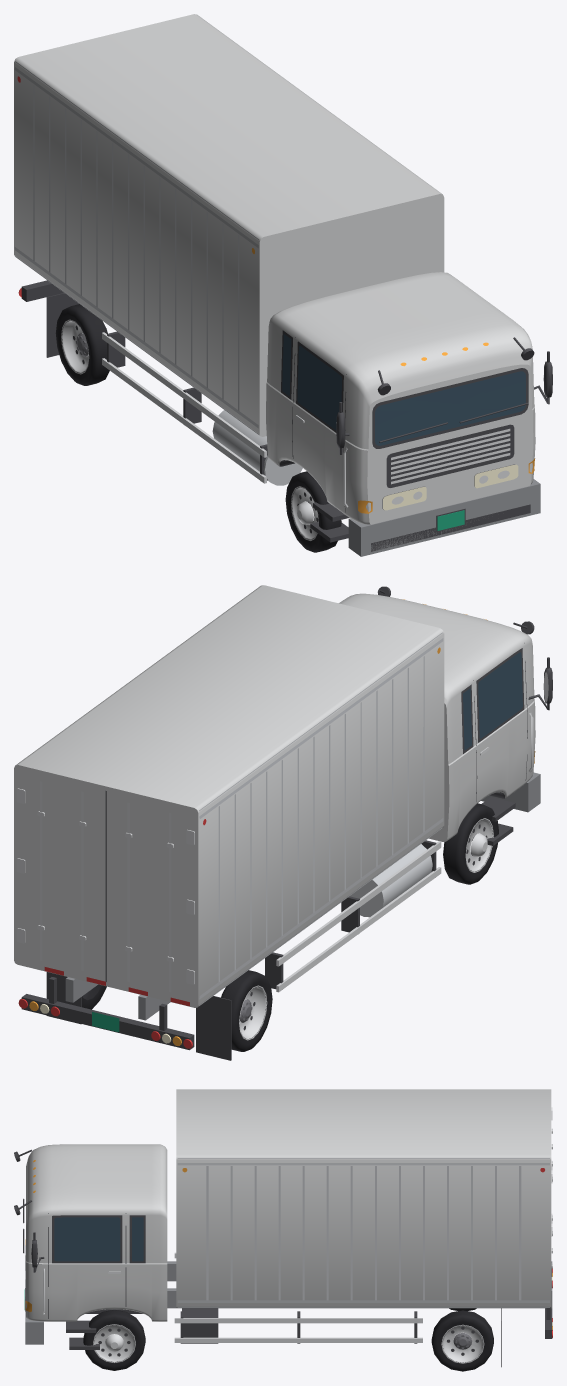
Rendered from 0_close.fbx.
The picture shows the model from 3 angles, top to bottom: view 1: azimuth 30°, elevation 25°; view 2: azimuth 150°, elevation 25°; view 3: azimuth 270°, elevation 25°; orthographic projection. The views are drawn at different scales.
Parts seen in each view (by area): view 1: 11_0_close; view 2: 11_0_close; view 3: 11_0_close.
Boxes of the visible parts, <box> form: 11_0_close: <box>14,14,552,556</box>; 11_0_close: <box>14,585,552,1060</box>; 11_0_close: <box>14,1089,552,1371</box>.
Size of the model in its own units: 2.6 by 3.3 by 7.43.
